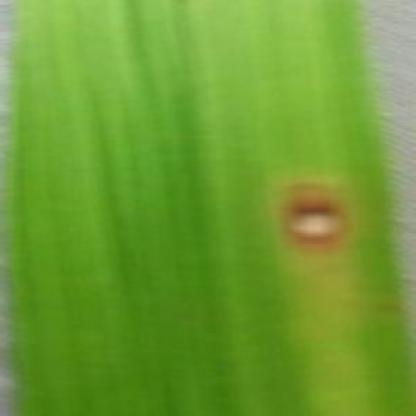Rice blast: (269, 173, 353, 273)
